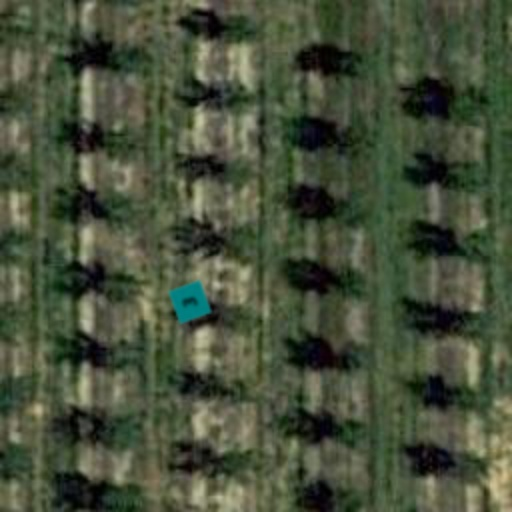rectangle: (166, 278, 214, 326)
